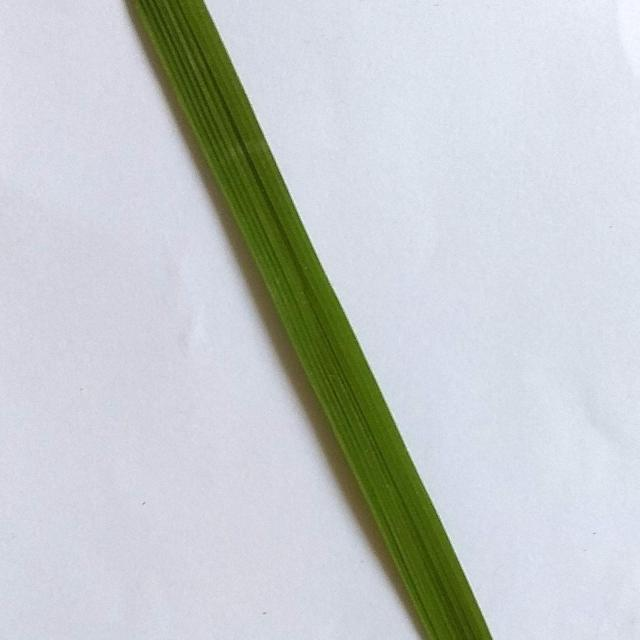healthy: (111, 0, 494, 640)
